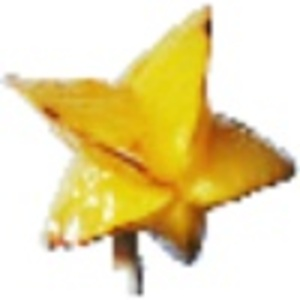carambola: (6, 4, 300, 286)
